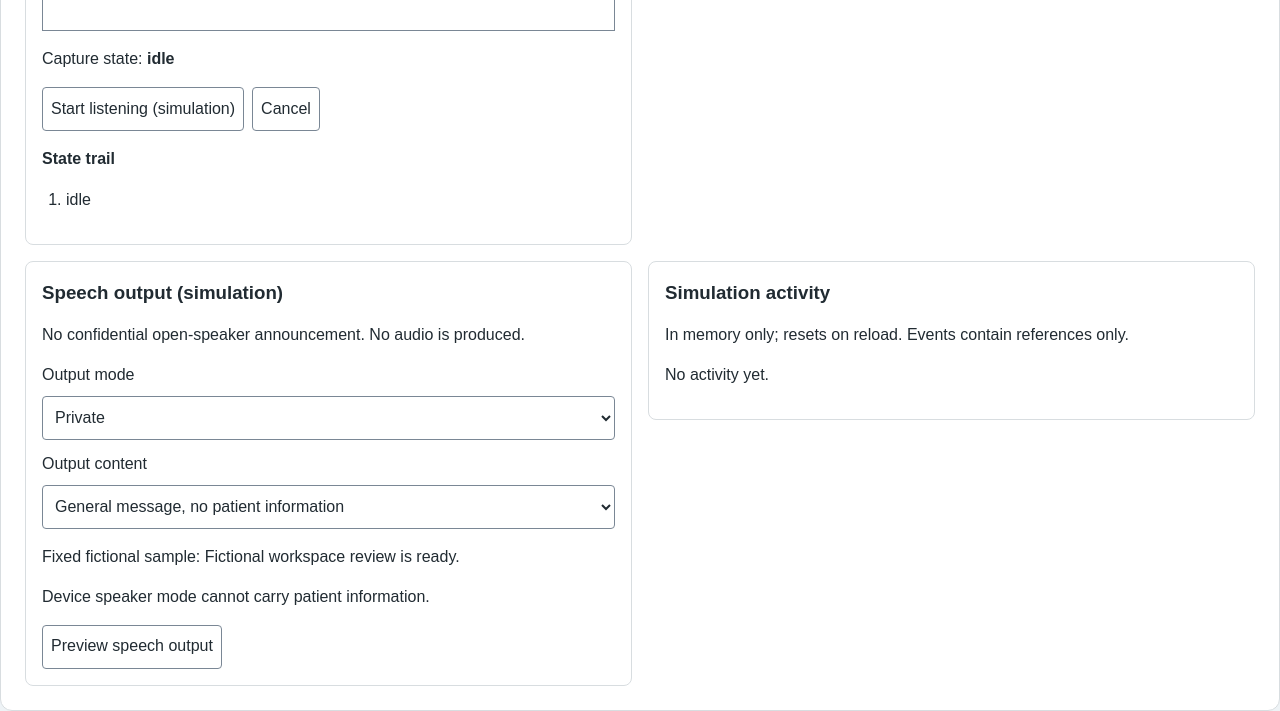
Test case: keeps the Voice speech refusal rendered surface boundary-safe after interaction
(page scrolled)
Select "Device speaker" in the dropdown labelled "Output mode". click: point(328, 418)
box: [42, 396, 615, 440]
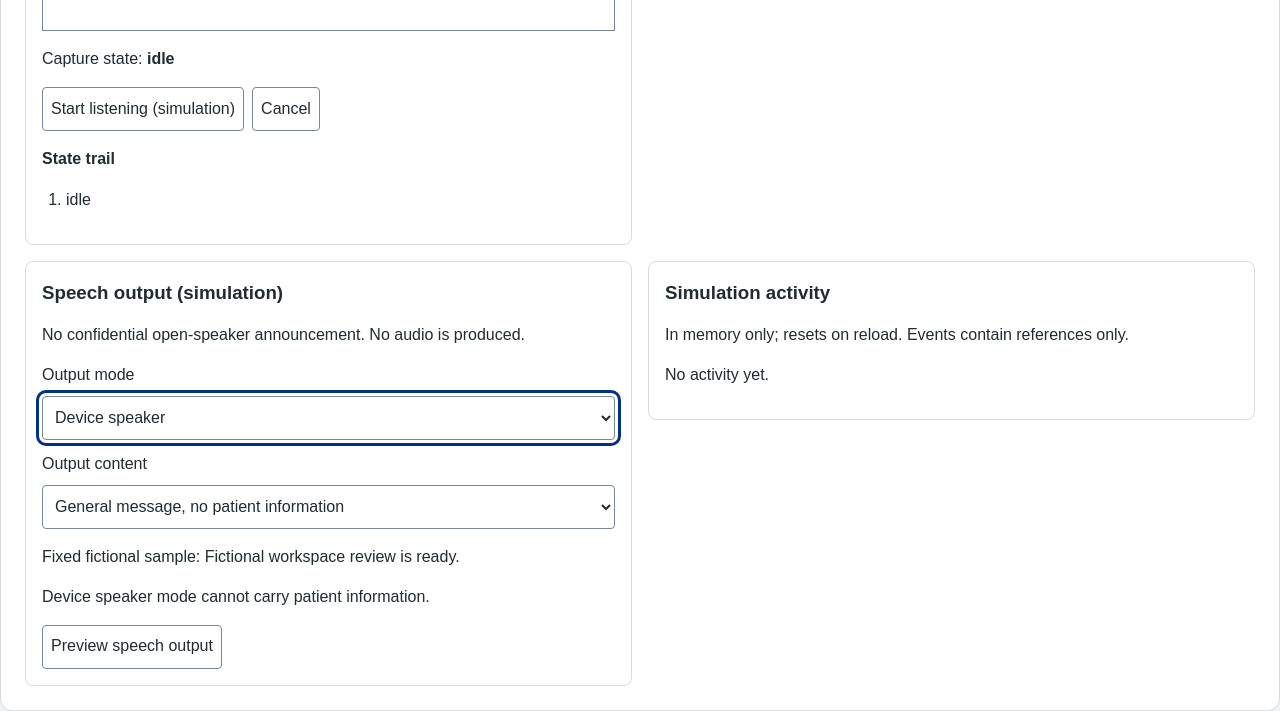
Select "Message with patient information" in the dropdown labelled "Output content". click: point(328, 507)
box: [42, 485, 615, 529]
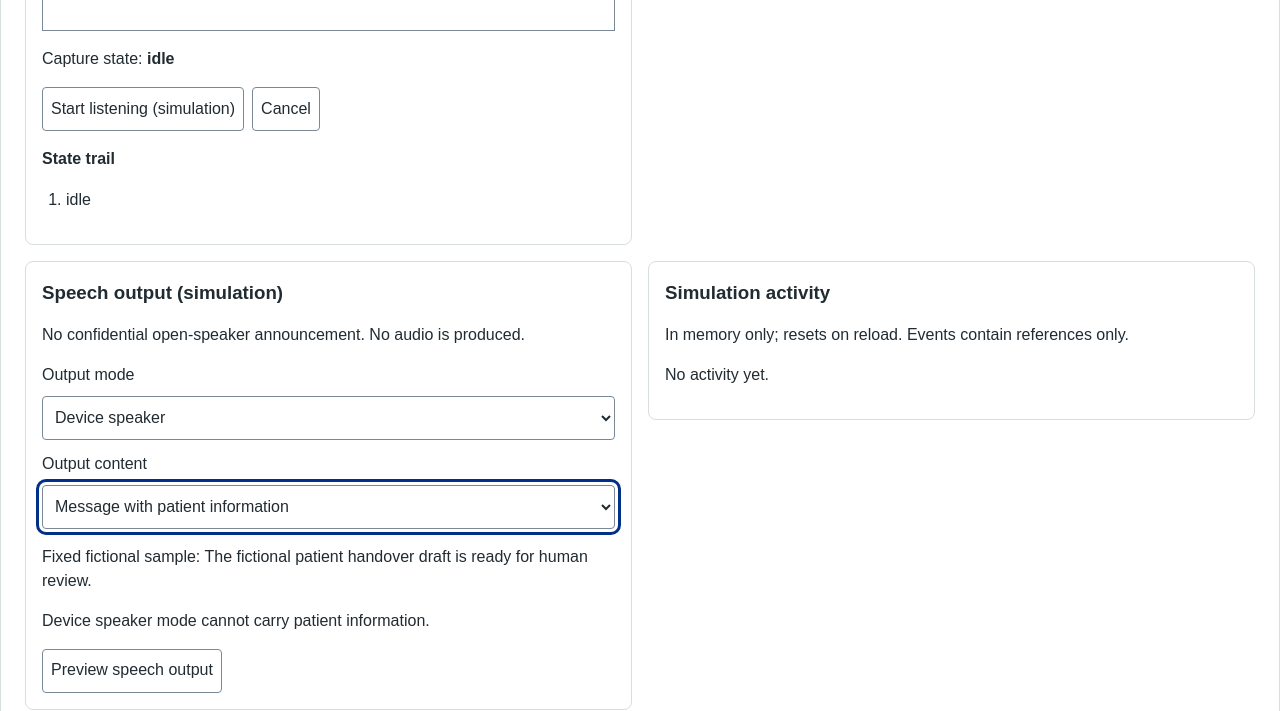
Click the button "Preview speech output". click: point(132, 671)
box: [42, 649, 222, 693]
(page scrolled)
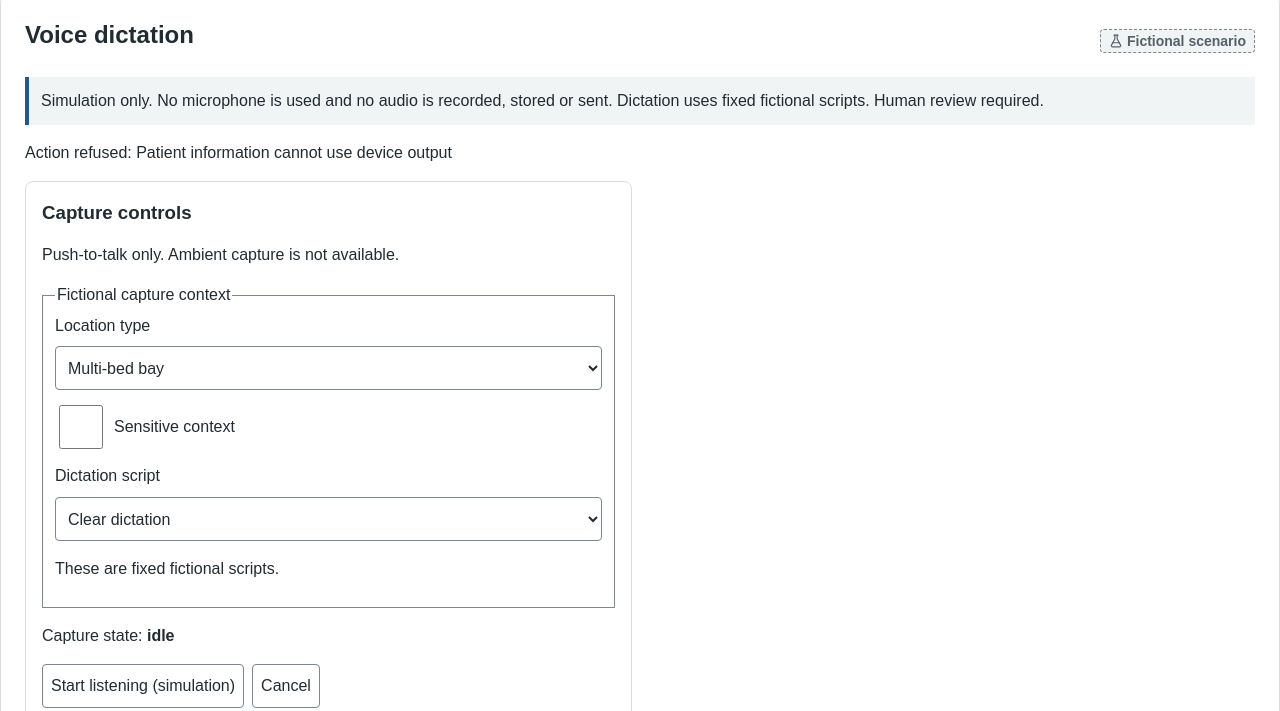
Result: the message reads "Action refused: Patient information cannot use device output" at [25, 144, 452, 161]
